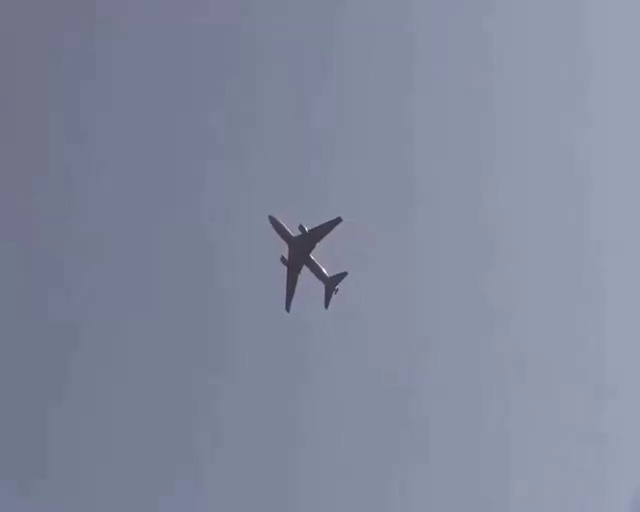AIRPLANE: (266, 212, 350, 313)
